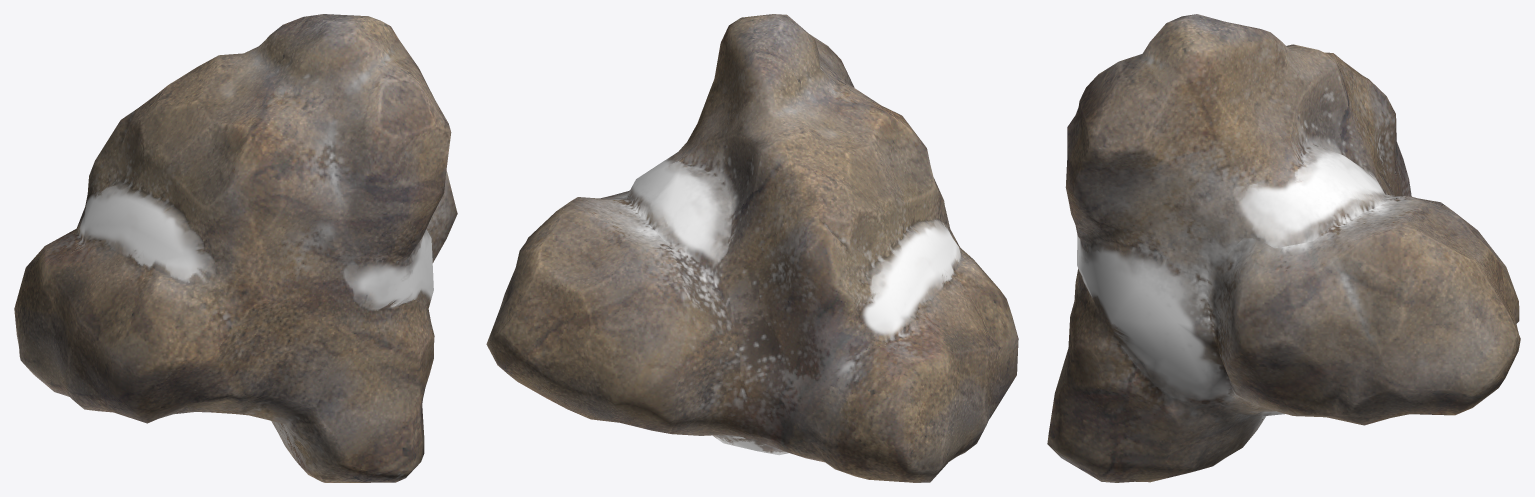
File: SM_MetalNode_1a.fbx
The picture shows the model from 3 angles, left to right: view 1: azimuth 30°, elevation 25°; view 2: azimuth 150°, elevation 25°; view 3: azimuth 270°, elevation 25°; orthographic projection. The views are drawn at different scales.
Visible parts, largest first — view 1: SM_MetalNode_1a_LOD0; view 2: SM_MetalNode_1a_LOD0; view 3: SM_MetalNode_1a_LOD0.
Boxes of the visible parts, x1=… form: SM_MetalNode_1a_LOD0: x1=14, y1=14, x2=457, y2=482; SM_MetalNode_1a_LOD0: x1=486, y1=14, x2=1018, y2=482; SM_MetalNode_1a_LOD0: x1=1047, y1=14, x2=1520, y2=482.
Size of what is drawn, in the model's own units: 1.1 by 1.12 by 1.04.
